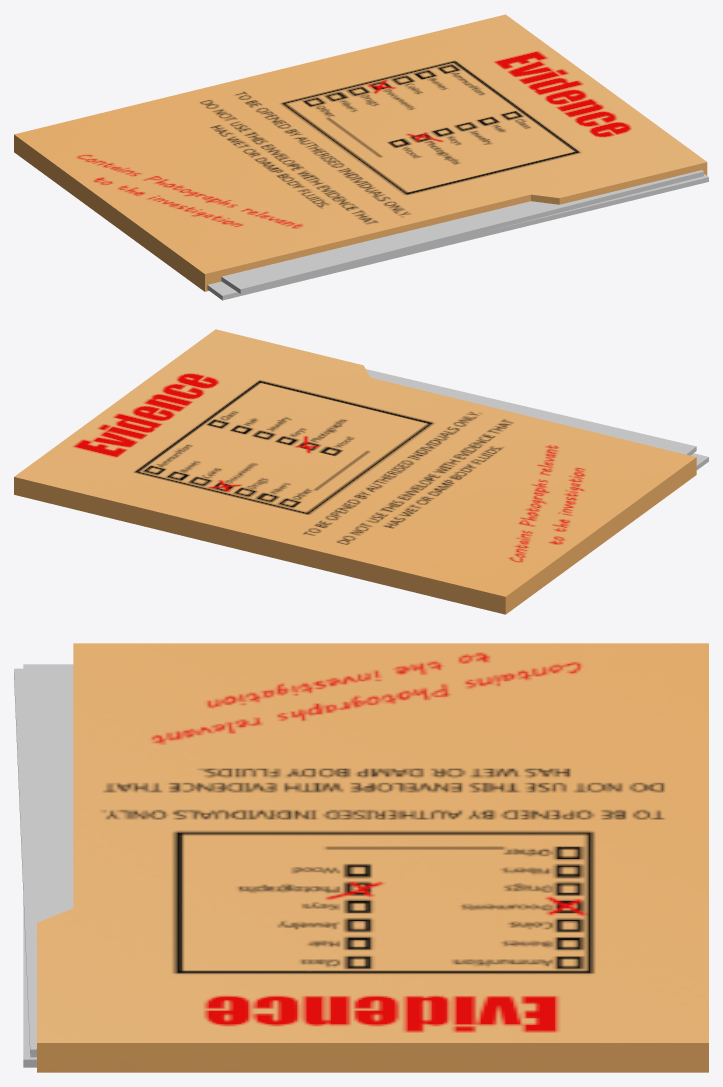
The model's file is CaseFile.fbx.
The picture shows the model from 3 angles, top to bottom: view 1: azimuth 30°, elevation 25°; view 2: azimuth 150°, elevation 25°; view 3: azimuth 270°, elevation 25°; orthographic projection. The views are drawn at different scales.
Visible parts, largest first — view 1: CaseFile, page, Page; view 2: CaseFile, page; view 3: CaseFile, page, Page.
Part boxes in pixels (left/top/right/bottom): CaseFile: left=14, top=14, right=707, bottom=291; page: left=221, top=170, right=703, bottom=293; Page: left=207, top=174, right=708, bottom=300; CaseFile: left=14, top=329, right=696, bottom=614; page: left=366, top=369, right=696, bottom=455; CaseFile: left=37, top=643, right=708, bottom=1072; page: left=14, top=668, right=73, bottom=1057; Page: left=23, top=664, right=73, bottom=1067.
Bounding box in the file's own units: 200 × 6.93 × 147.
Materials: 1 (1 with a texture image).
